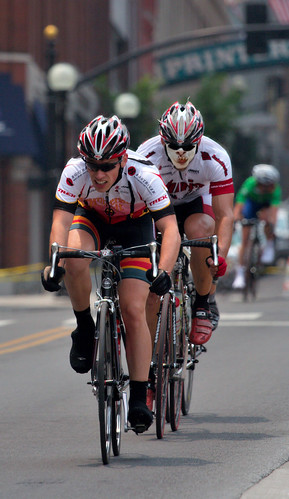helmet: (73, 110, 127, 150), (154, 95, 204, 134)
